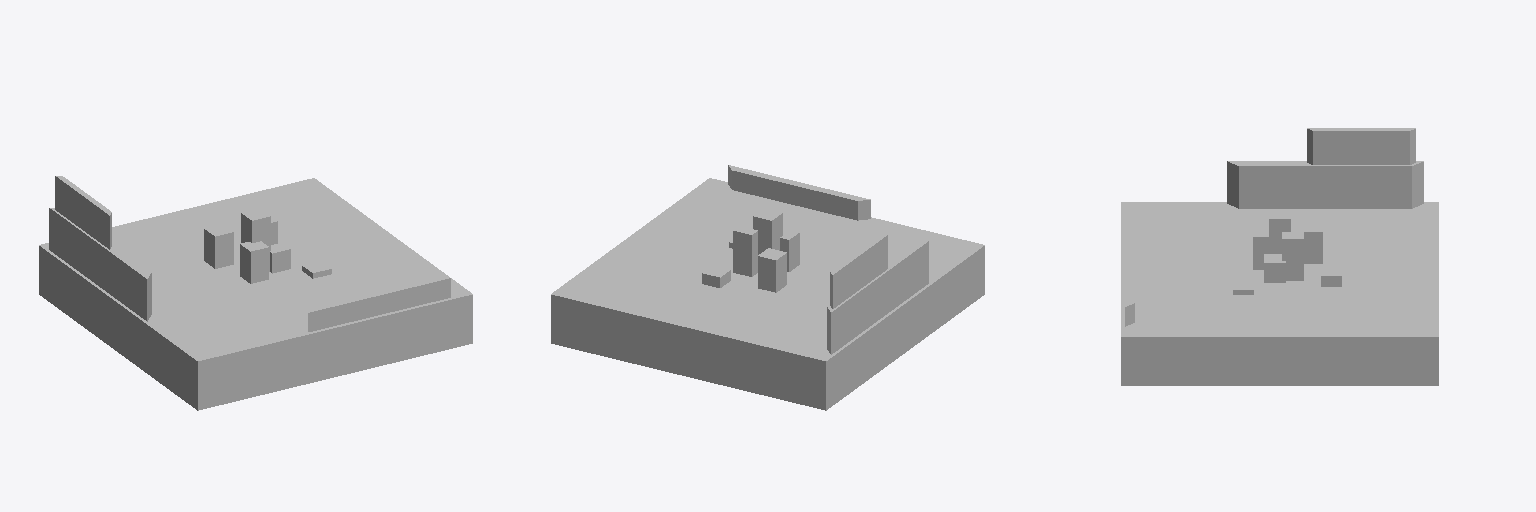
Rendered from conn02.obj.
3 renders of one model, left to right at view 1: azimuth 30°, elevation 25°; view 2: azimuth 150°, elevation 25°; view 3: azimuth 270°, elevation 25°, orthographic.
Parts seen in each view (by area): view 1: conn03:pCube39; view 2: conn03:pCube39; view 3: conn03:pCube39.
Part boxes in pixels (x1,y1,x2,y2): conn03:pCube39: (39, 176, 472, 410); conn03:pCube39: (551, 165, 984, 410); conn03:pCube39: (1121, 128, 1438, 385).
Bounding box in the file's own units: 16.16 × 7.05 × 16.16.